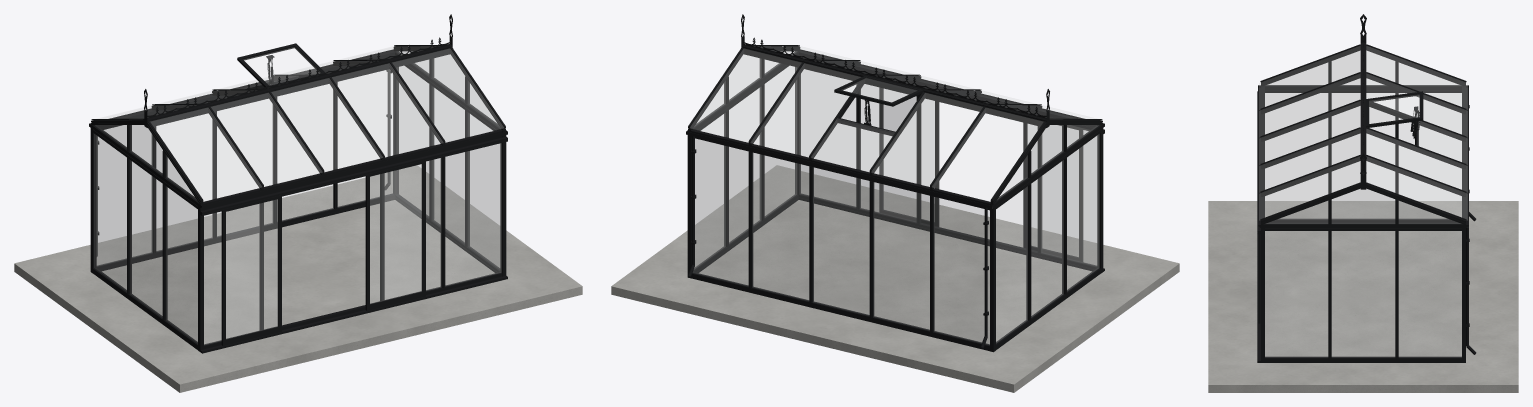
File: sg-rect-7-9-12-7-decor.glb
3 renders of one model, left to right at view 1: azimuth 30°, elevation 25°; view 2: azimuth 150°, elevation 25°; view 3: azimuth 270°, elevation 25°, orthographic. The views are drawn at different scales.
Visible parts, largest first — view 1: scandiglas-rect-7-9-12-7-decor; view 2: scandiglas-rect-7-9-12-7-decor; view 3: scandiglas-rect-7-9-12-7-decor.
Boxes of the visible parts, x1,y1,x2,y2 form: scandiglas-rect-7-9-12-7-decor: [14, 14, 582, 392]; scandiglas-rect-7-9-12-7-decor: [611, 14, 1179, 392]; scandiglas-rect-7-9-12-7-decor: [1208, 14, 1518, 392].
Size of the model in its own units: 5.11 by 2.81 by 3.64.
Materials: 5 (1 with a texture image).
